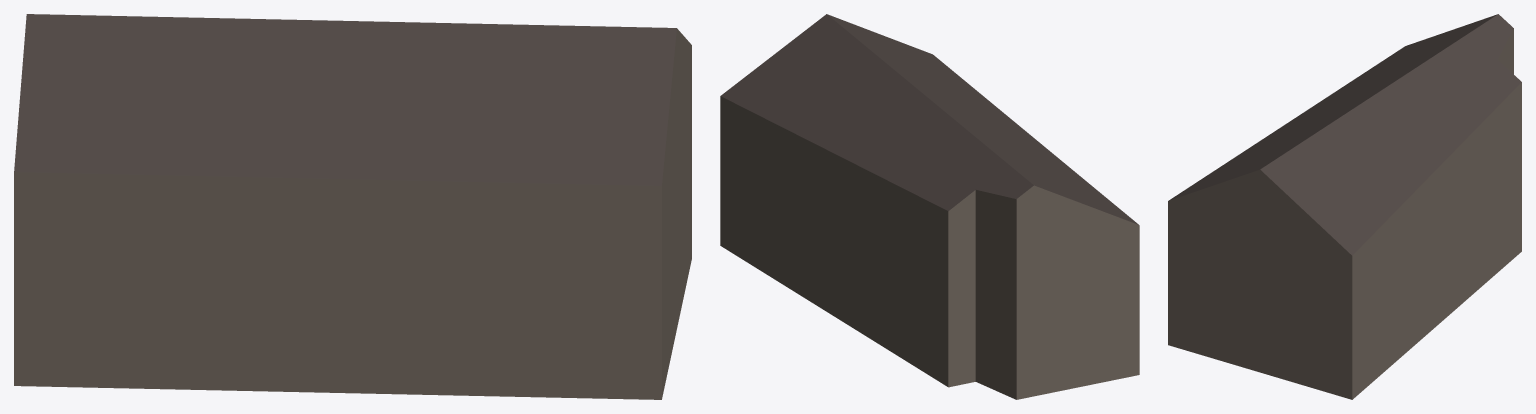
The picture shows the model from 3 angles, left to right: view 1: azimuth 30°, elevation 25°; view 2: azimuth 150°, elevation 25°; view 3: azimuth 270°, elevation 25°; orthographic projection. The views are drawn at different scales.
Visible parts, largest first — view 1: HP-w1515071136; view 2: HP-w1515071136; view 3: HP-w1515071136.
Part boxes in pixels (x1,y1,x2,y2): HP-w1515071136: (14,14,691,399); HP-w1515071136: (720,14,1139,399); HP-w1515071136: (1168,14,1521,399).
Size of the model in its own units: 28.1 by 12.68 by 20.03.
